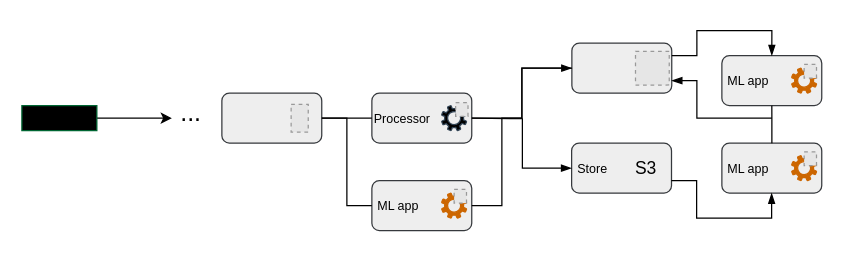
Some shapes in this 844 by 253 pixel diagram are drawn without their labels. Grey dashed boxes stand in for pictures. The box of each missing label's shape, as (x1, y1, x2, y2) in pixels:
Buffer: (221, 92, 322, 143)
events: (21, 104, 97, 131)
Index: (571, 42, 672, 93)
